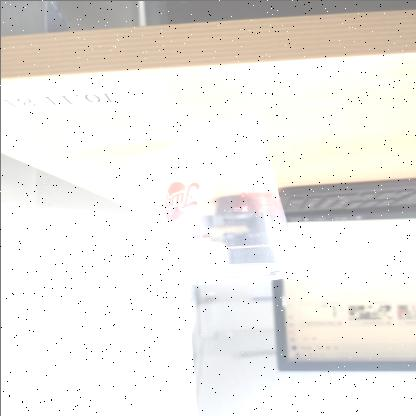Others: (143, 134, 315, 286)
